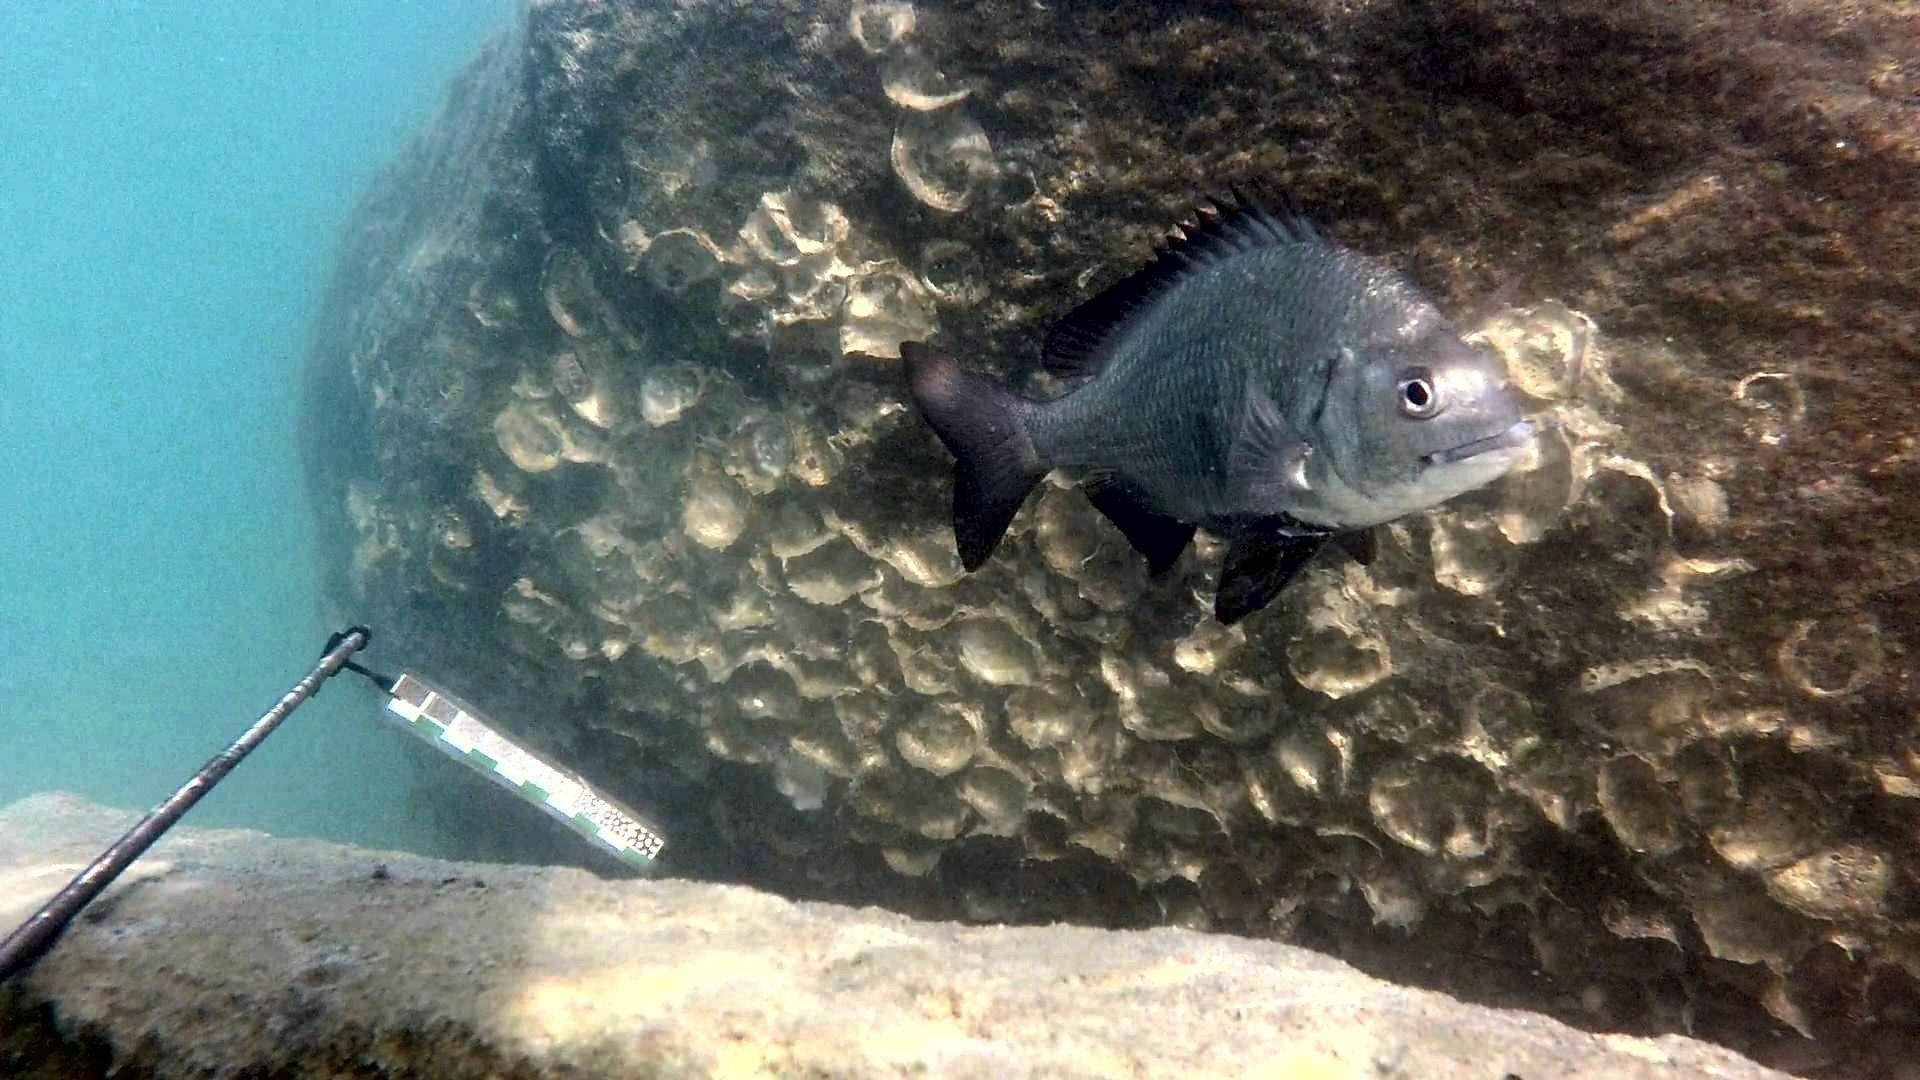acanthopagrus palmaris: (893, 180, 1547, 634)
